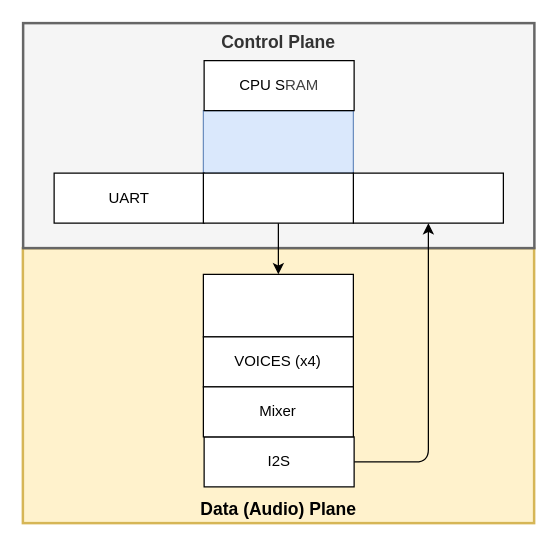
This 558x545 diagram has some shape labels left out. Here are the shapes that lost their labels. From the top down, the centre of each, then its label:
point (277, 141): Picorv32 CPU @ 28MHz 16K RAM
point (277, 197): Voice RAM (VRAM)
point (427, 197): ISR
point (277, 305): Audio Pipeline RTL @ 28MHz
